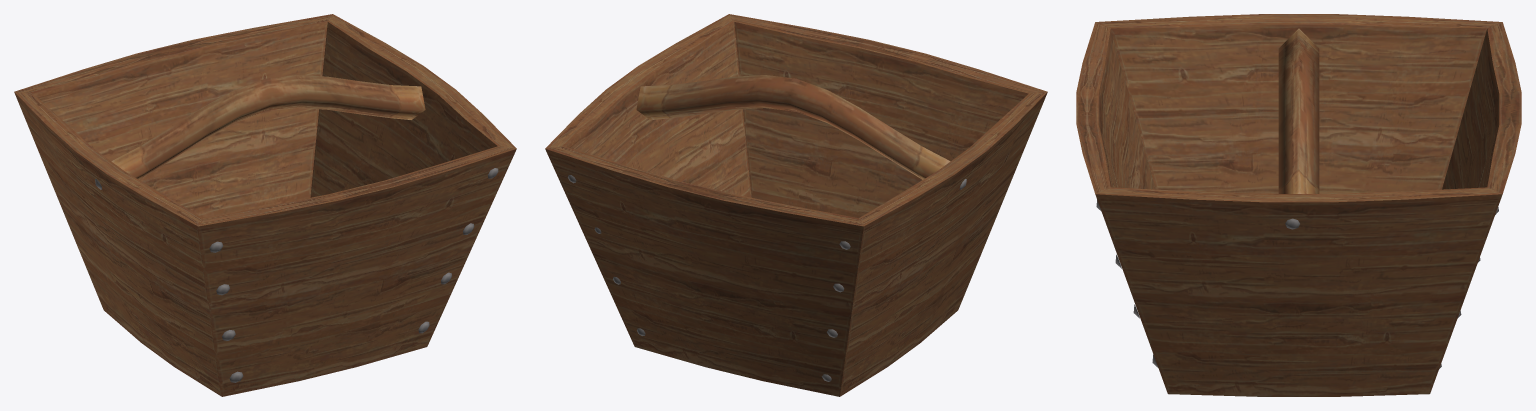
Rendered from SM_Farm_FoodContainer_02.fbx.
The picture shows the model from 3 angles, left to right: view 1: azimuth 30°, elevation 25°; view 2: azimuth 150°, elevation 25°; view 3: azimuth 270°, elevation 25°; orthographic projection. The views are drawn at different scales.
Parts seen in each view (by area): view 1: SM_Farm_FoodContainer_02_LOD0; view 2: SM_Farm_FoodContainer_02_LOD0; view 3: SM_Farm_FoodContainer_02_LOD0.
Part boxes in pixels (x1,y1,x2,y2): SM_Farm_FoodContainer_02_LOD0: [14, 14, 516, 396]; SM_Farm_FoodContainer_02_LOD0: [545, 14, 1047, 396]; SM_Farm_FoodContainer_02_LOD0: [1076, 14, 1521, 396].
Bounding box in the file's own units: 56.68 × 38.83 × 56.68.
